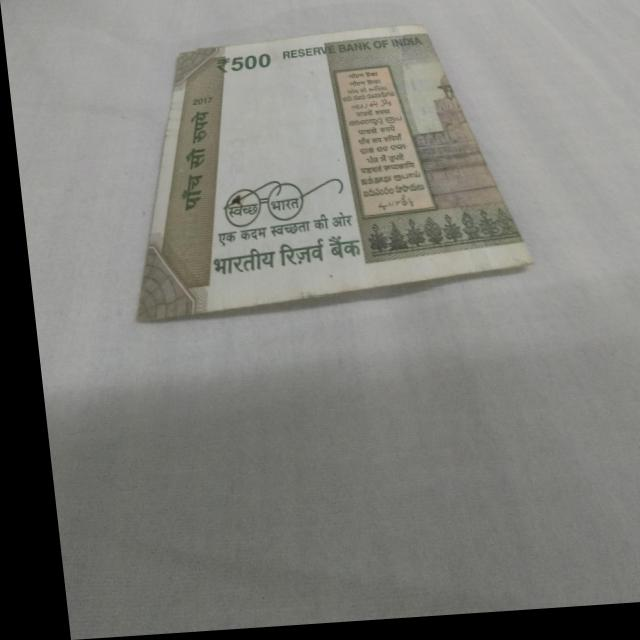Currency: (112, 21, 531, 310)
